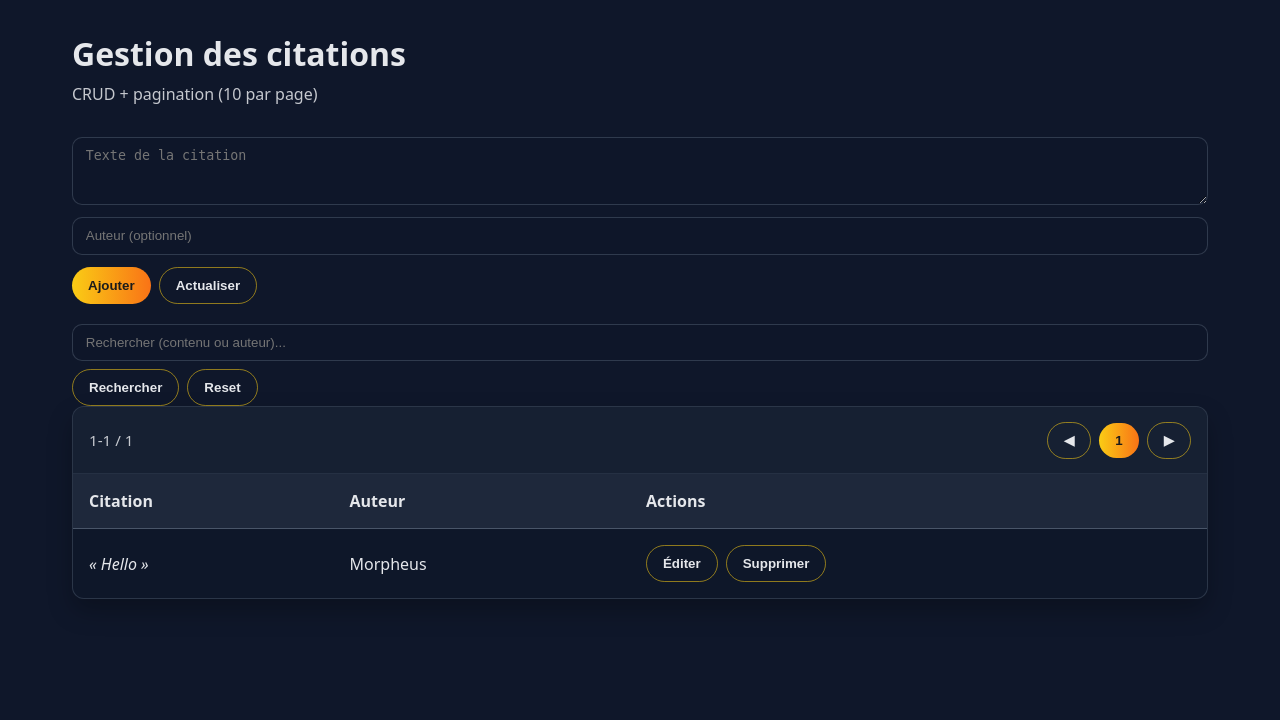
QuotesPanel › shows the delete error when deletion fails
This screenshot has width=1280, height=720.
Click the button "Supprimer". click: (776, 564)
box: [726, 545, 826, 582]
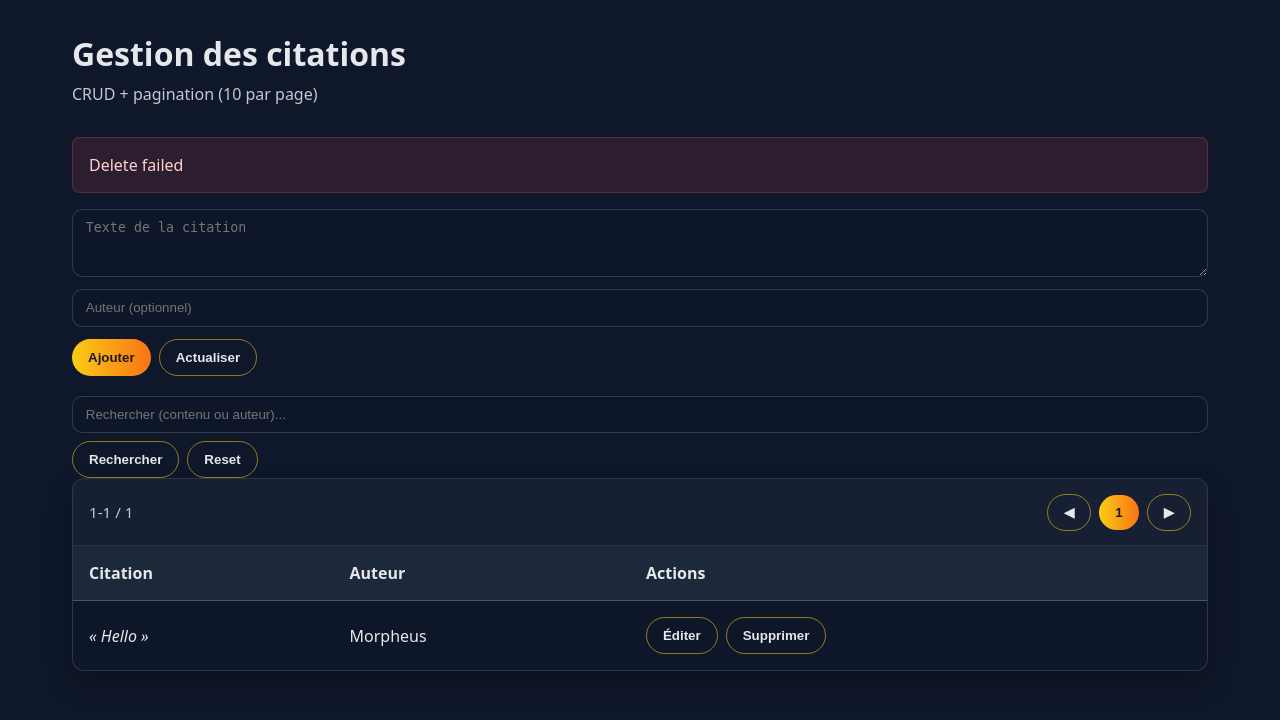
expect the text "Delete failed" is shown: met, box [72, 137, 1208, 193]
